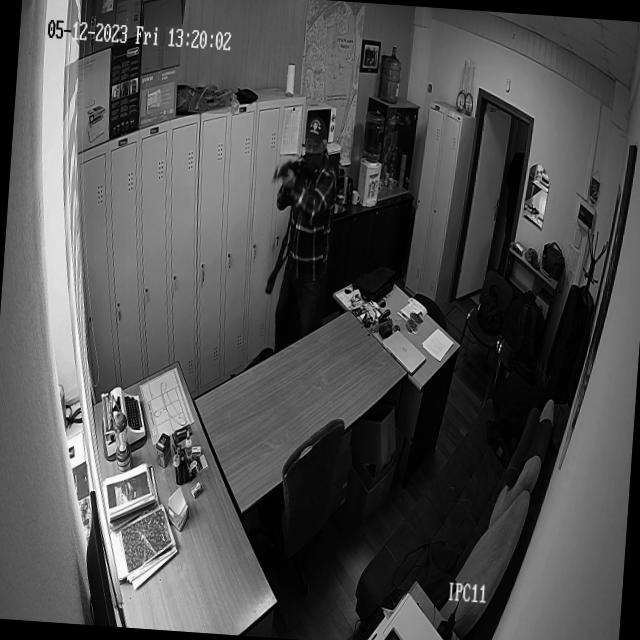gun: (270, 156, 307, 188)
person with a gun: (260, 113, 342, 340)
